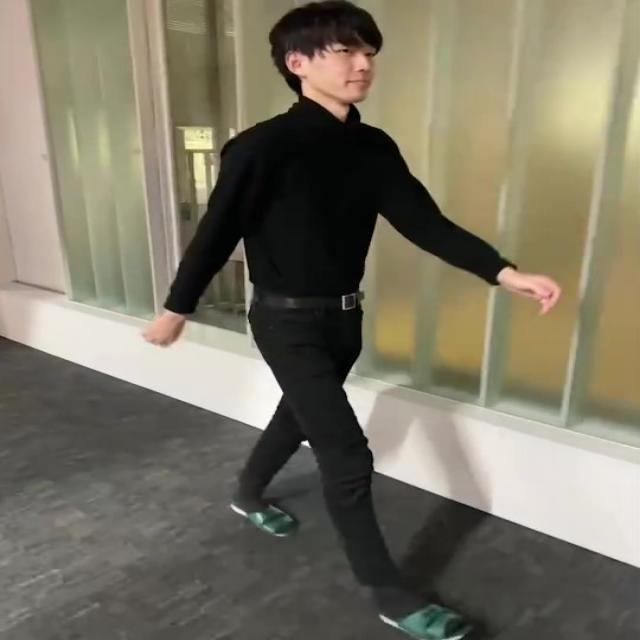direk: (129, 0, 561, 640)
